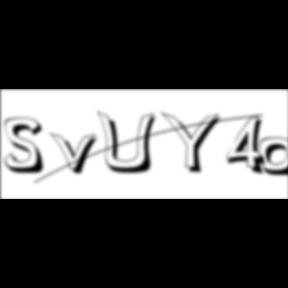4: (226, 115, 272, 179)
S: (5, 117, 51, 176)
U: (98, 110, 162, 176)
Y: (161, 110, 228, 176)
v: (50, 131, 104, 177)
